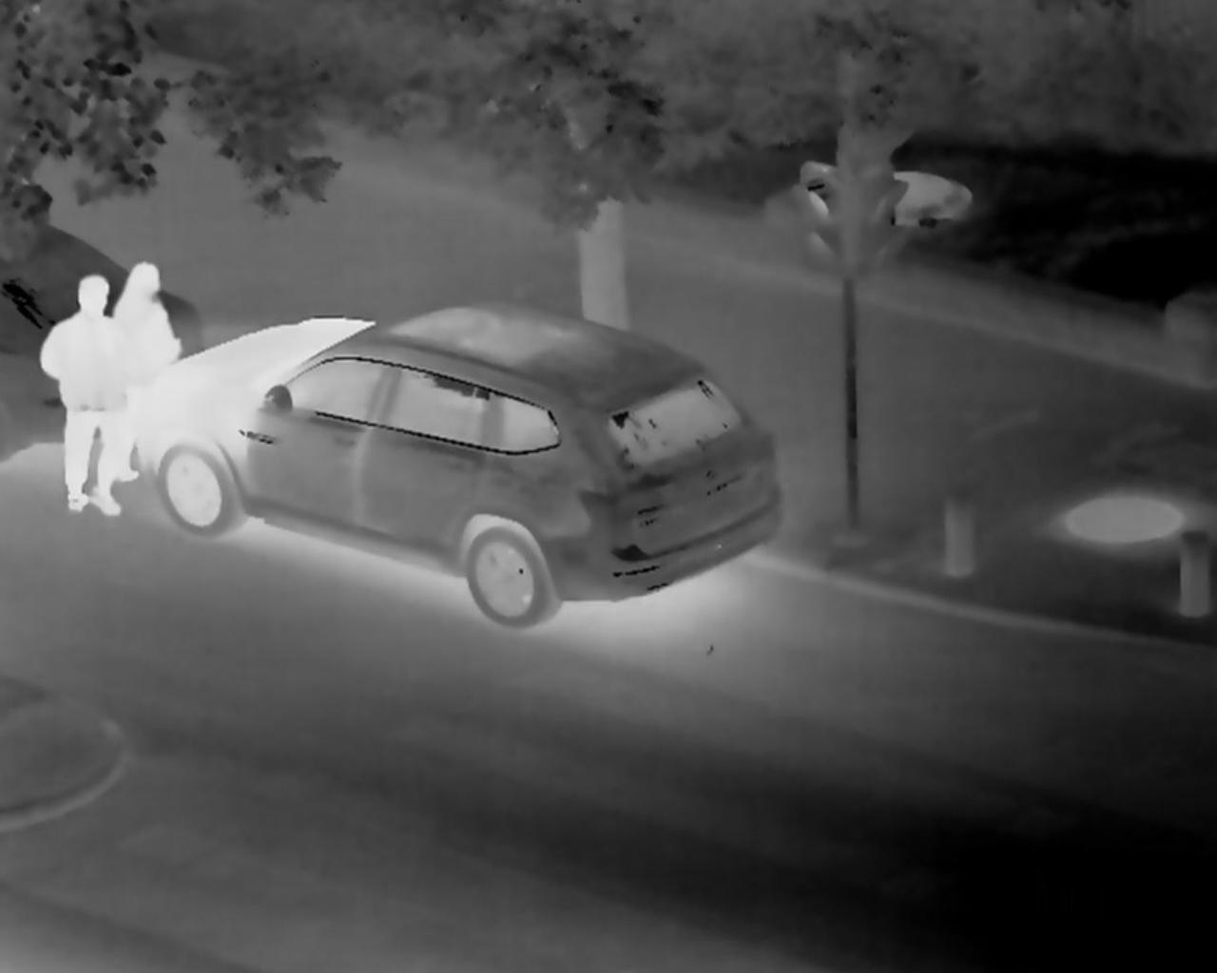person: (33, 264, 116, 554), (124, 241, 174, 440)
